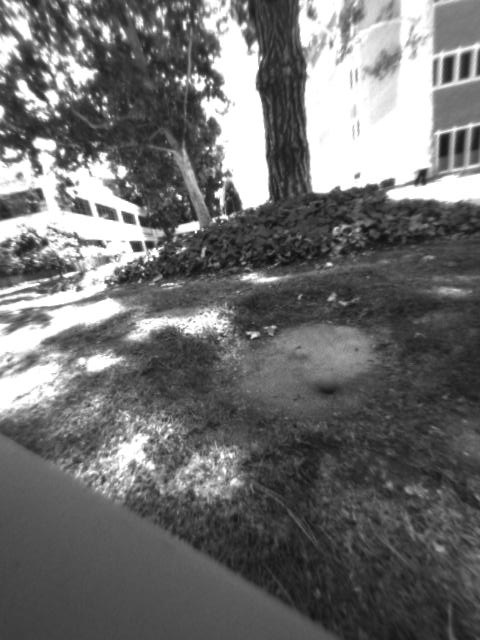dogtoy: (301, 361, 348, 404)
